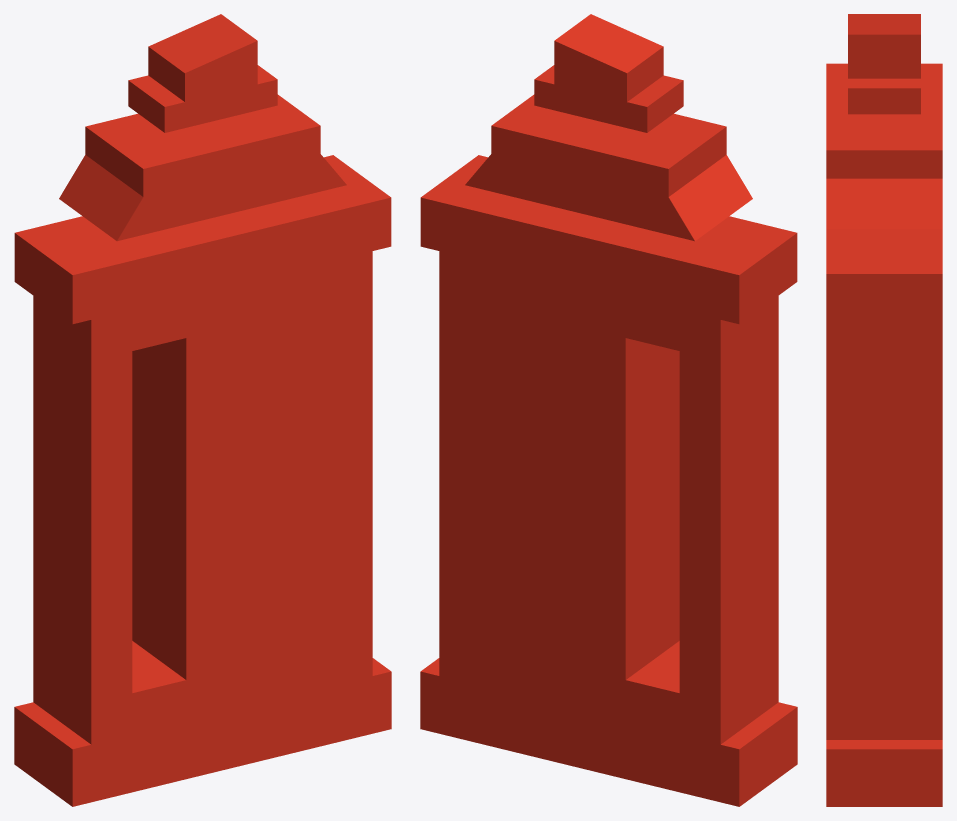
Rendered from Icon_Spray_01.fbx.
3 views of the same model, side by side, from view 1: azimuth 30°, elevation 25°; view 2: azimuth 150°, elevation 25°; view 3: azimuth 270°, elevation 25° (orthographic).
Parts seen in each view (by area): view 1: Icon_Spray_01; view 2: Icon_Spray_01; view 3: Icon_Spray_01.
Boxes of the visible parts, <box> form: Icon_Spray_01: <box>14,14,391,806</box>; Icon_Spray_01: <box>420,14,797,806</box>; Icon_Spray_01: <box>826,14,942,806</box>.
Bounding box in the file's own units: 31.69 × 67.46 × 9.99.
